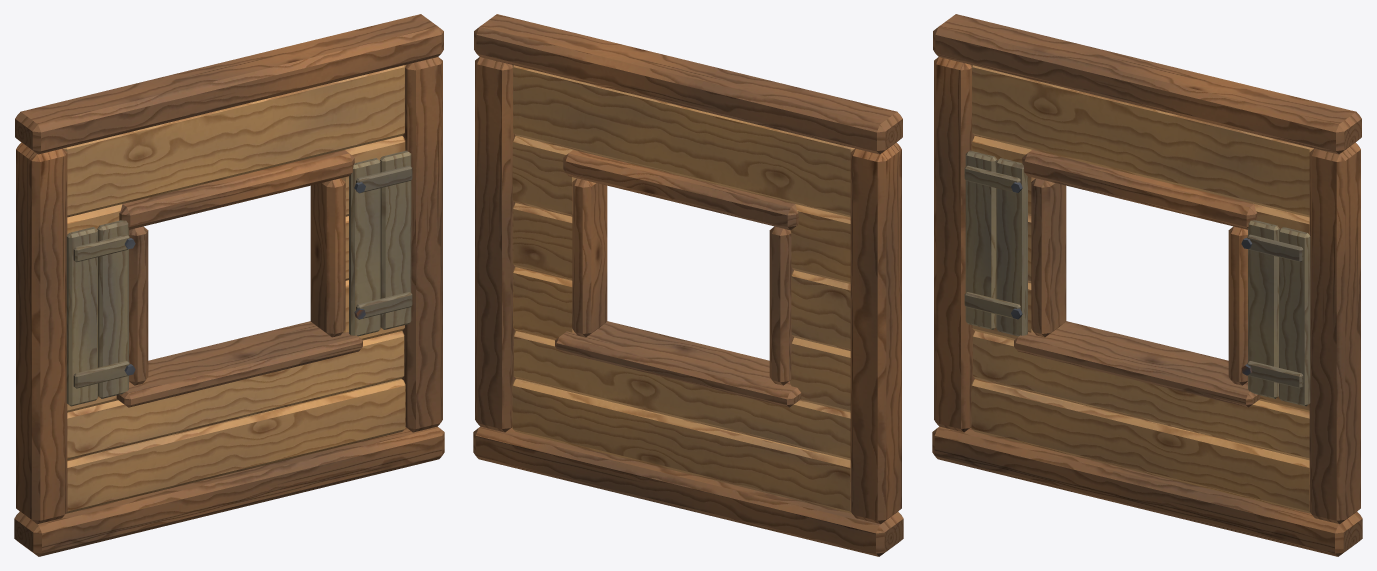
File: pencereli_duvar.glb
3 renders of one model, left to right at view 1: azimuth 30°, elevation 25°; view 2: azimuth 150°, elevation 25°; view 3: azimuth 330°, elevation 25°, orthographic.
Visible parts, largest first — view 1: pencereli_duvar; view 2: pencereli_duvar; view 3: pencereli_duvar.
Part boxes in pixels (x1,y1,x2,y2): pencereli_duvar: (14, 14, 444, 556); pencereli_duvar: (473, 14, 903, 556); pencereli_duvar: (932, 14, 1362, 556).
Bounding box in the file's own units: 3 × 3.01 × 0.42.
1 material, 1 textured.
